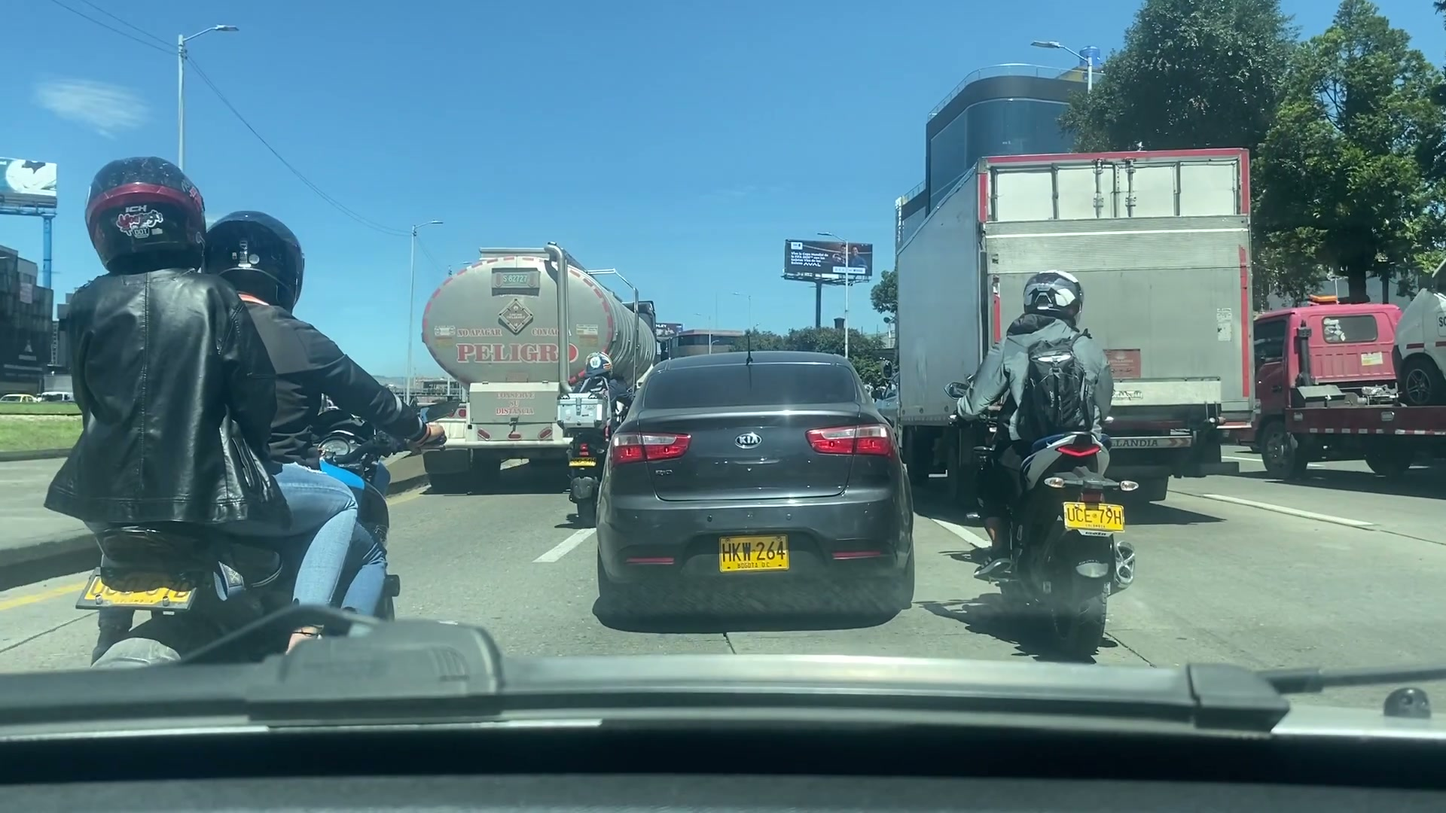car: (597, 352, 916, 624), (1384, 245, 1446, 405)
motorcycle: (898, 144, 1251, 509), (51, 511, 419, 670), (940, 397, 1137, 653), (557, 418, 613, 524)
person: (54, 148, 339, 637), (201, 201, 450, 619), (960, 270, 1136, 570), (575, 348, 628, 488)
truck: (417, 238, 663, 487), (1248, 303, 1445, 479)
